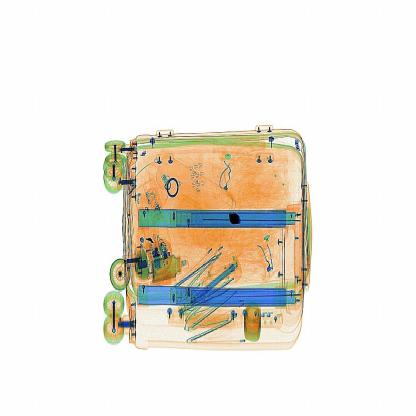scissors: (223, 205, 251, 238)
